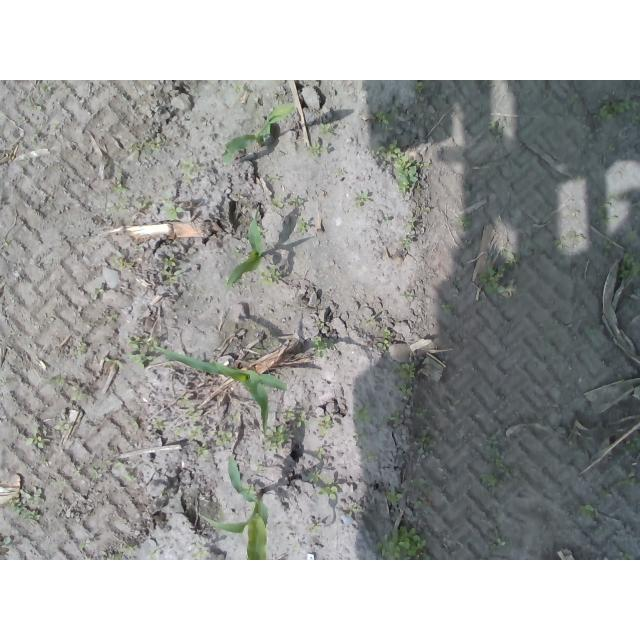Maize: (151, 346, 289, 434), (196, 454, 269, 560), (224, 103, 297, 163), (224, 206, 264, 289)
Weeds: (370, 142, 431, 197), (477, 430, 527, 494), (372, 525, 433, 560), (479, 252, 520, 301), (9, 485, 45, 523), (597, 95, 640, 121), (124, 341, 161, 368), (307, 468, 338, 500), (595, 191, 617, 225), (113, 194, 151, 213), (619, 251, 640, 284), (161, 255, 183, 285), (265, 425, 291, 450), (400, 362, 417, 397), (414, 429, 434, 458), (178, 395, 198, 421), (163, 199, 185, 222), (312, 336, 333, 359), (377, 326, 396, 351), (553, 235, 584, 250), (259, 265, 281, 286), (26, 430, 49, 450), (270, 198, 304, 211), (115, 462, 137, 482), (283, 409, 306, 428), (178, 159, 194, 185), (403, 218, 416, 250), (317, 415, 333, 437), (373, 110, 393, 127), (578, 504, 598, 521), (175, 426, 201, 438), (352, 191, 370, 208), (191, 544, 210, 560), (614, 474, 639, 486), (457, 214, 474, 231), (215, 430, 233, 446), (307, 143, 329, 156), (317, 120, 333, 137), (625, 435, 640, 453), (114, 173, 128, 192), (490, 537, 507, 552), (114, 257, 135, 269), (144, 143, 161, 157), (344, 505, 361, 519), (297, 219, 311, 234), (385, 409, 400, 423), (355, 409, 369, 424), (386, 491, 401, 505), (413, 479, 433, 489), (100, 552, 122, 561), (440, 302, 456, 314), (603, 239, 613, 257), (618, 550, 636, 560), (195, 446, 210, 458), (55, 422, 72, 432), (313, 446, 325, 458), (415, 81, 426, 94), (401, 291, 415, 301), (154, 418, 165, 430), (1, 536, 12, 547), (123, 542, 138, 550), (52, 377, 65, 386), (232, 84, 245, 93), (132, 417, 140, 431), (487, 120, 497, 131), (72, 391, 85, 399), (382, 216, 393, 225), (233, 248, 244, 257), (413, 499, 422, 509), (80, 542, 91, 550), (271, 174, 281, 182), (607, 143, 615, 152)
